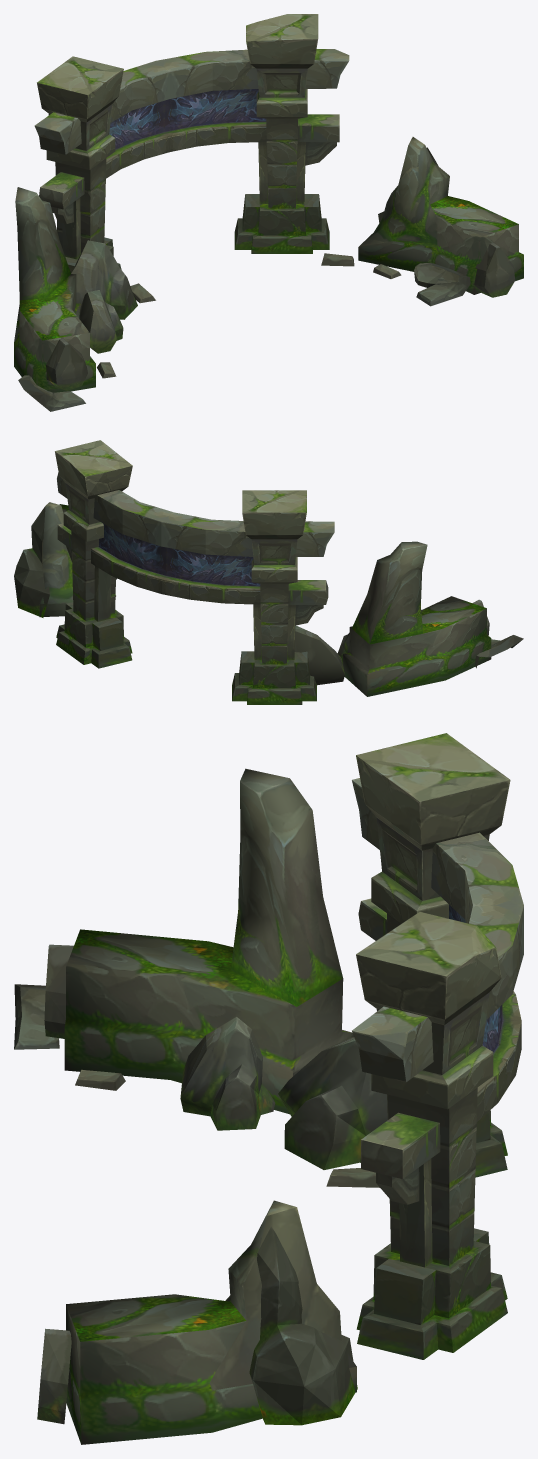
File: fb_lyhg_zj_01_d.FBX
3 renders of one model, top to bottom at view 1: azimuth 30°, elevation 25°; view 2: azimuth 150°, elevation 25°; view 3: azimuth 270°, elevation 25°, orthographic. The views are drawn at different scales.
Parts seen in each view (by area): view 1: fb_lyhg_zj_01_d; view 2: fb_lyhg_zj_01_d; view 3: fb_lyhg_zj_01_d.
Boxes of the visible parts, x1,y1,x2,y2 form: fb_lyhg_zj_01_d: (14, 14, 523, 411); fb_lyhg_zj_01_d: (14, 440, 523, 704); fb_lyhg_zj_01_d: (14, 733, 523, 1444).
Bounding box in the file's own units: 2975 × 1205 × 1468.
